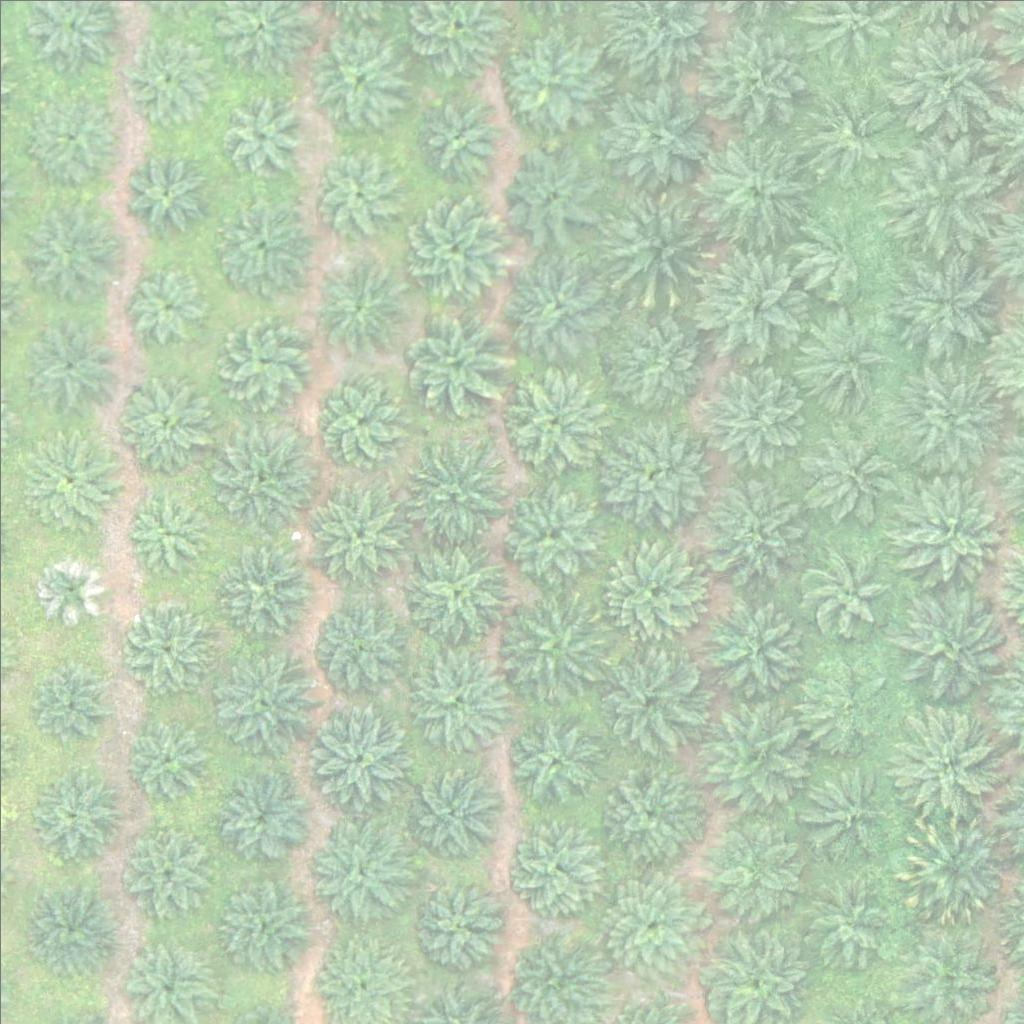Kelapa_Sawit: (593, 866, 706, 980), (589, 754, 702, 868), (492, 590, 605, 704), (400, 533, 513, 647), (392, 434, 505, 548), (895, 811, 1008, 924), (891, 707, 1004, 820), (896, 590, 1009, 703), (892, 468, 1005, 581), (694, 360, 807, 473), (205, 644, 318, 757), (398, 303, 511, 416), (396, 193, 509, 306), (597, 80, 710, 193), (692, 246, 805, 359), (701, 133, 814, 246), (695, 16, 808, 129), (403, 640, 515, 754), (206, 418, 318, 532), (889, 138, 1001, 252), (887, 21, 999, 135), (890, 360, 1002, 473), (692, 697, 804, 810), (694, 589, 806, 702), (590, 640, 702, 753), (591, 416, 703, 529), (299, 700, 411, 813), (600, 300, 712, 413), (601, 185, 713, 298), (891, 245, 1003, 358), (698, 477, 798, 578), (600, 541, 700, 642), (498, 484, 598, 585), (402, 868, 502, 969), (400, 762, 500, 863), (307, 824, 407, 925), (213, 872, 313, 973), (210, 764, 310, 865), (212, 540, 312, 641), (14, 431, 114, 532), (20, 316, 120, 417), (309, 256, 409, 357), (308, 28, 408, 129), (505, 369, 605, 470), (508, 257, 608, 358), (499, 141, 599, 242), (498, 31, 598, 132), (793, 311, 893, 412), (694, 818, 794, 918), (503, 819, 603, 919), (500, 708, 600, 808), (308, 597, 408, 697), (306, 480, 406, 580), (17, 201, 117, 301), (112, 373, 212, 473), (213, 311, 313, 411), (209, 195, 309, 295), (309, 370, 409, 470), (801, 85, 901, 185), (120, 822, 208, 911), (801, 765, 889, 853), (26, 880, 114, 968), (29, 767, 117, 855), (121, 256, 209, 344), (412, 92, 500, 180), (796, 207, 884, 295), (797, 875, 884, 963), (798, 661, 885, 749), (803, 547, 890, 635), (802, 431, 889, 519), (124, 709, 211, 797), (121, 599, 208, 687), (27, 85, 114, 173), (215, 93, 302, 181), (313, 149, 400, 237), (127, 494, 202, 570), (125, 151, 200, 227), (127, 40, 202, 116), (33, 662, 108, 737), (31, 548, 106, 623)
